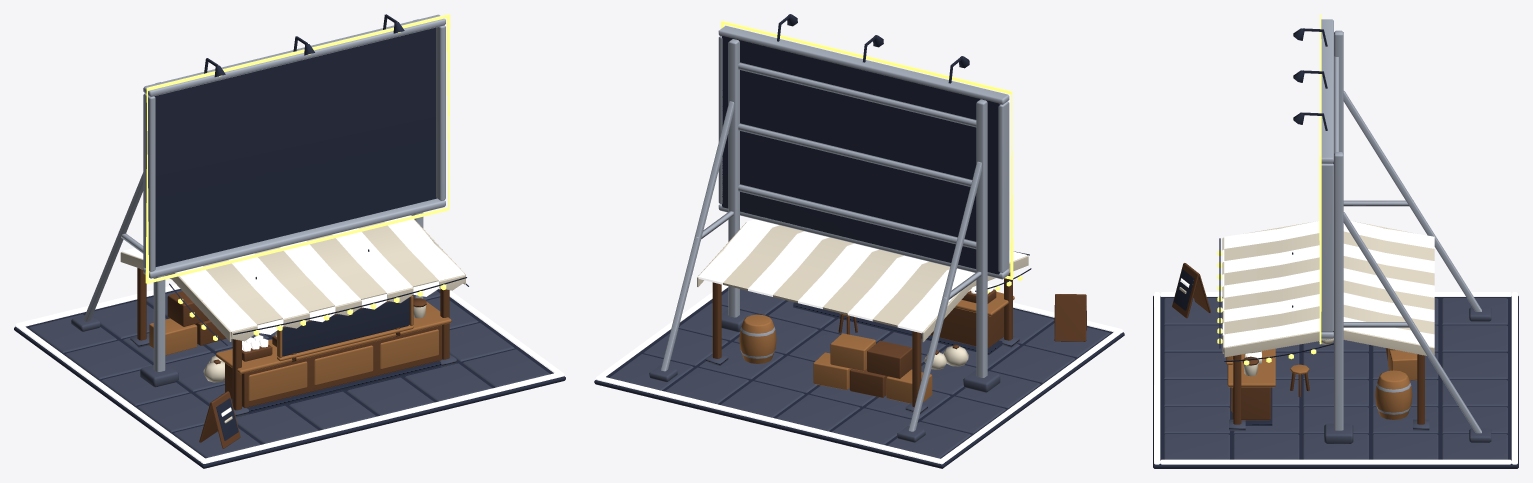
File: lot1_tent.glb
3 renders of one model, left to right at view 1: azimuth 30°, elevation 25°; view 2: azimuth 150°, elevation 25°; view 3: azimuth 270°, elevation 25°, orthographic. The views are drawn at different scales.
Parts seen in each view (by area): view 1: Lot; view 2: Lot; view 3: Lot.
Boxes of the visible parts, box(x1,y1,x2,y2) form: Lot: box(14, 14, 565, 468); Lot: box(594, 14, 1124, 468); Lot: box(1153, 14, 1518, 468).
Size of the model in its own units: 8.4 by 7.18 by 7.6.
